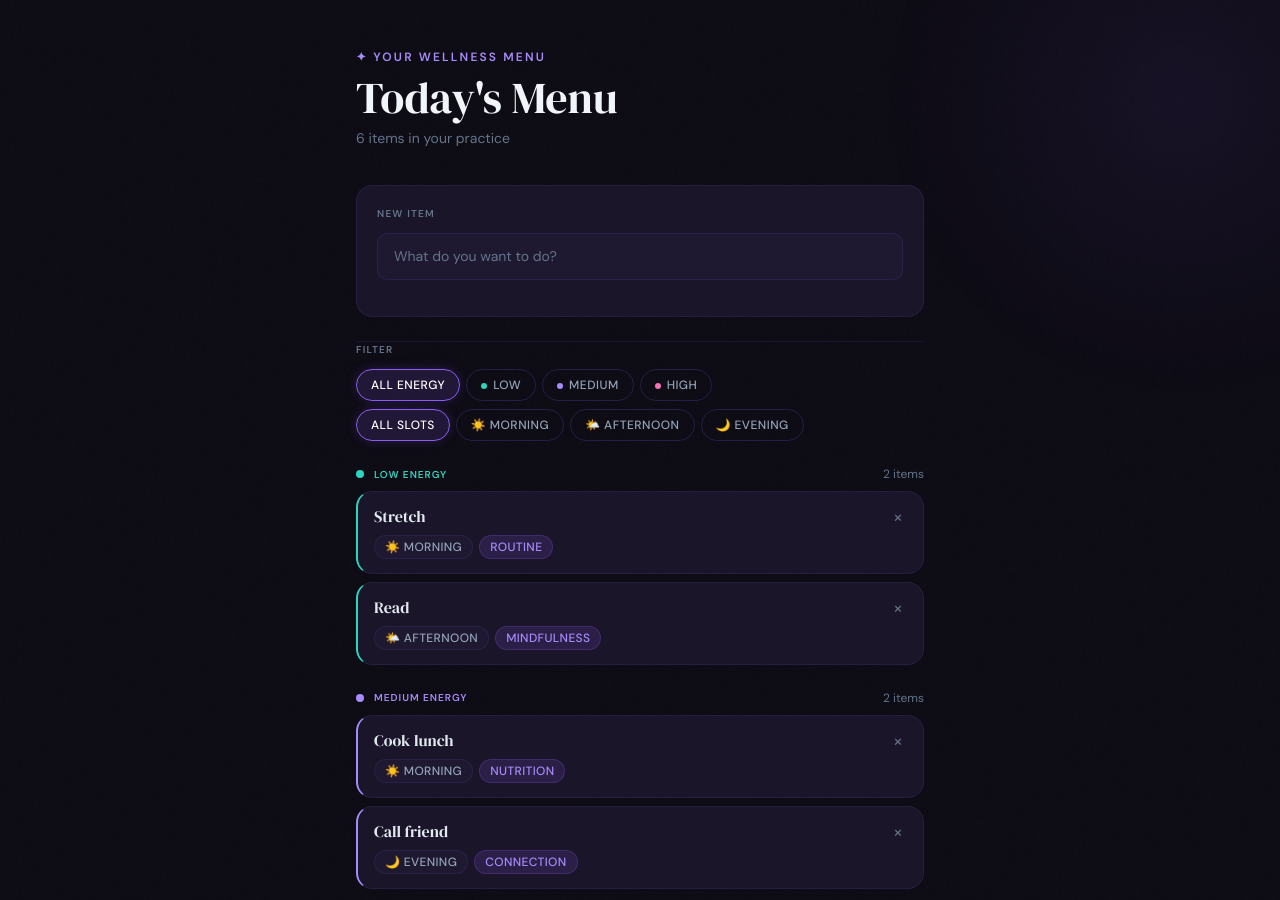
Test case: App — timeslot filter › shows only morning items after clicking the Morning pill
Expected: the text "Stretch" is shown, [374,505,426,527]
Step 1. Click the button "☀️ Morning" → (510, 425), box [456,409,564,441]
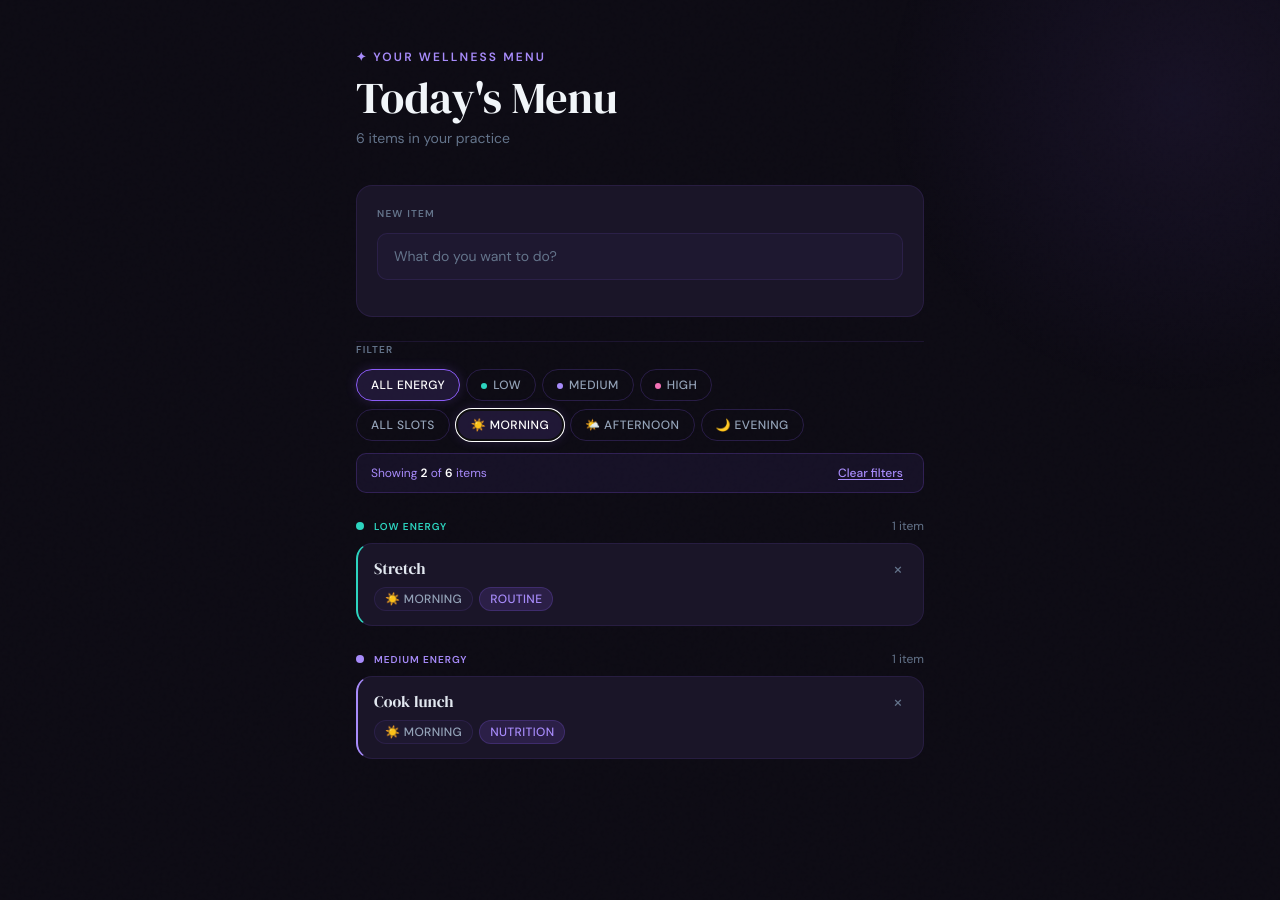
Expected: the text "Stretch" is shown, [374,557,426,579]
Expected: the text "Read" is gone
